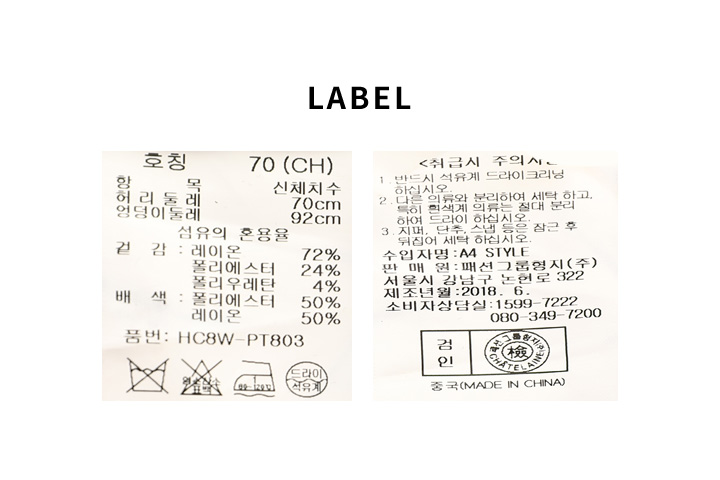KR_dry_clean_petroleum: (282, 357, 331, 402)
KR_iron_low_temp_with_cloth: (232, 357, 277, 399)
KR_no_bleach: (178, 355, 224, 400)
KR_no_wash: (126, 353, 168, 396)
